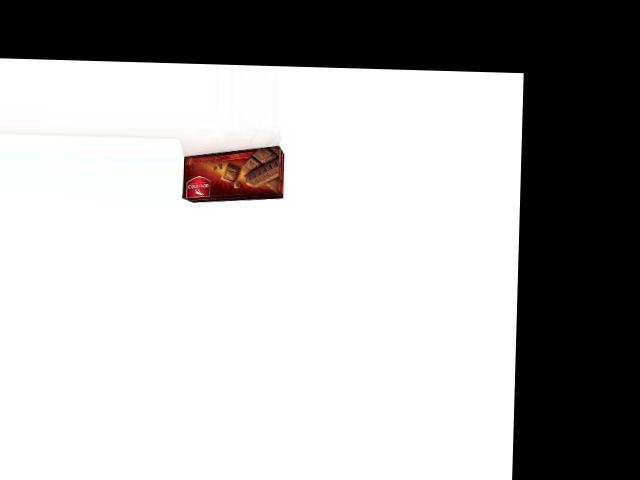chocolate: (181, 141, 283, 205)
